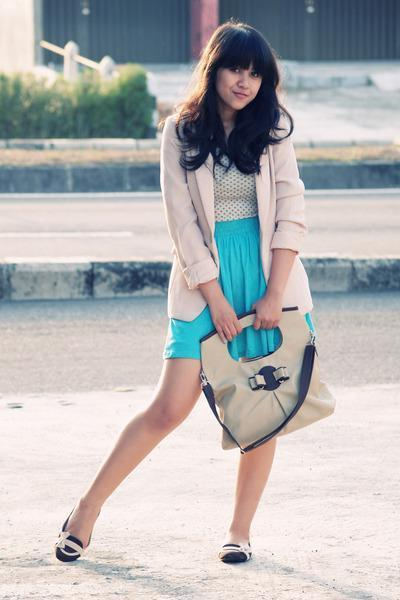jacket: (159, 101, 312, 324)
short sleeve shirt: (204, 131, 265, 233)
skirt: (152, 213, 317, 364)
